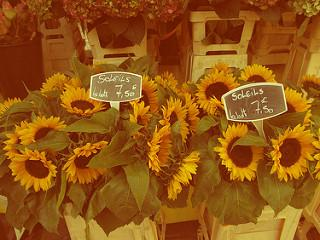sunflower: (217, 121, 263, 183), (271, 124, 316, 181), (8, 147, 57, 192), (64, 140, 110, 183), (166, 151, 200, 201), (197, 71, 237, 113), (60, 85, 105, 115), (163, 99, 191, 142), (150, 125, 172, 173), (129, 99, 148, 144)
